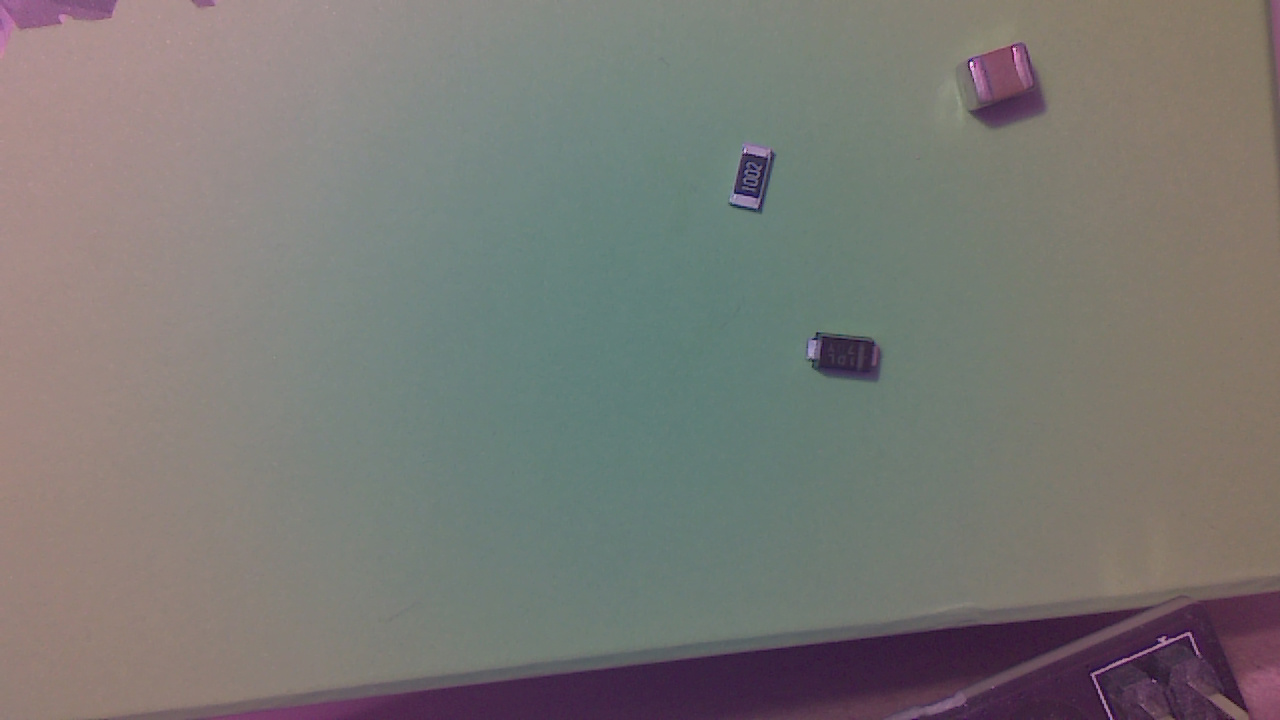Condensator: (959, 48, 1039, 115)
Diode: (811, 328, 890, 381)
Resistor: (736, 151, 783, 215)
